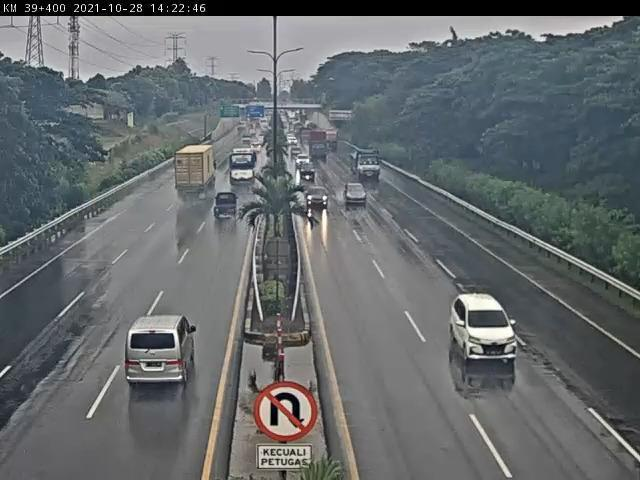bus: (229, 152, 258, 187)
truck: (174, 145, 221, 199), (348, 147, 382, 183)
